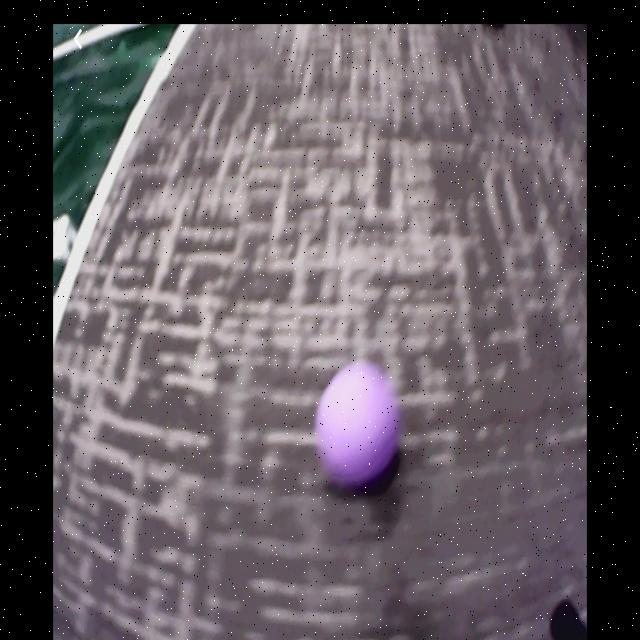ball: (317, 362, 396, 485)
